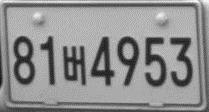1: (39, 35, 56, 86)
3: (169, 36, 193, 87)
4: (89, 35, 115, 86)
5: (143, 36, 167, 87)
8: (12, 34, 35, 85)
9: (116, 35, 139, 86)
버: (62, 45, 86, 86)
